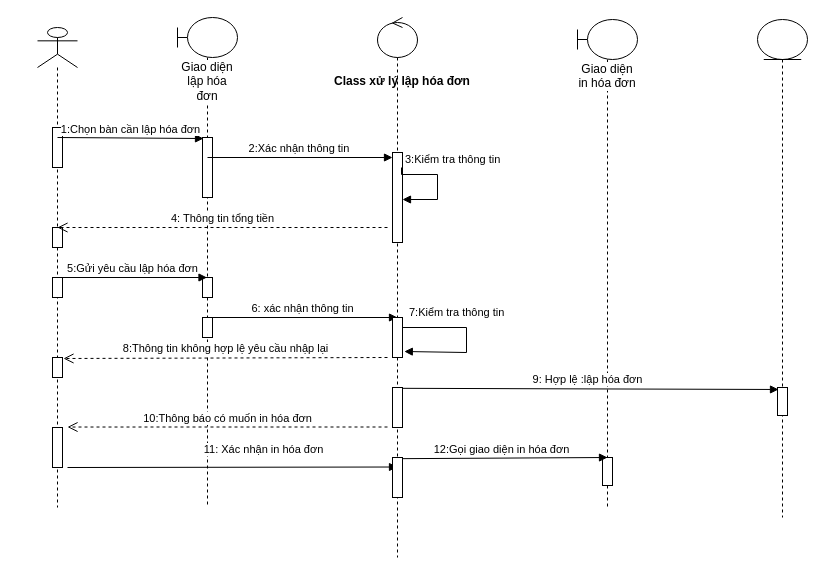
The diagram is 825 pixels wide and 575 high, and some of its shapes have lost their labels. Each missing label, with the box of its shape:
Bill: (756, 18, 808, 518)
Quản trị: (36, 26, 78, 508)
